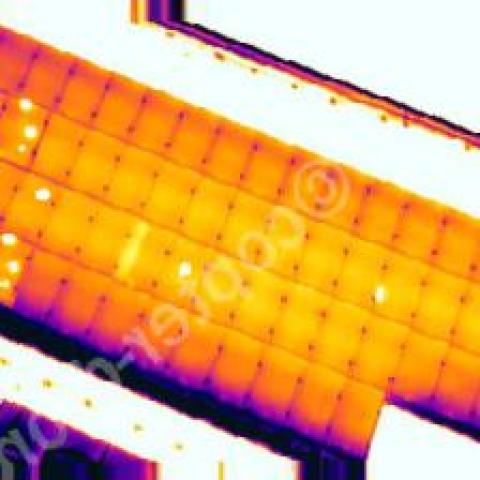fault: (28, 182, 56, 206), (368, 278, 388, 308), (174, 257, 195, 283), (13, 92, 34, 118), (21, 118, 41, 143), (2, 229, 24, 251), (6, 253, 22, 278), (13, 139, 30, 159), (2, 278, 13, 296)
